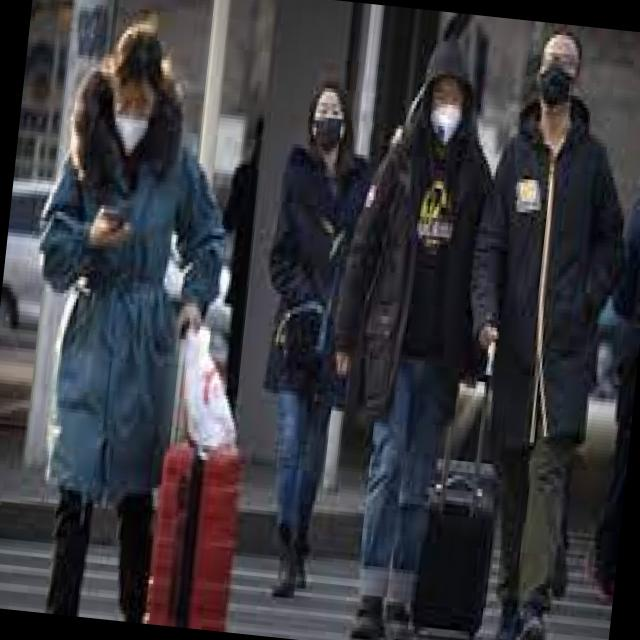Jacket: (451, 100, 637, 467), (320, 105, 509, 448), (250, 137, 381, 414)
